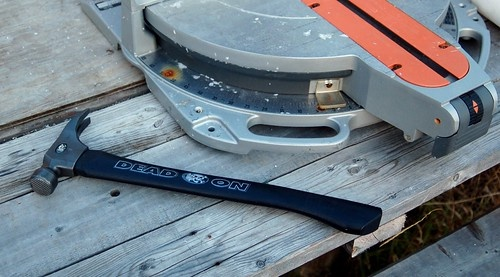hammer: (26, 107, 389, 240)
